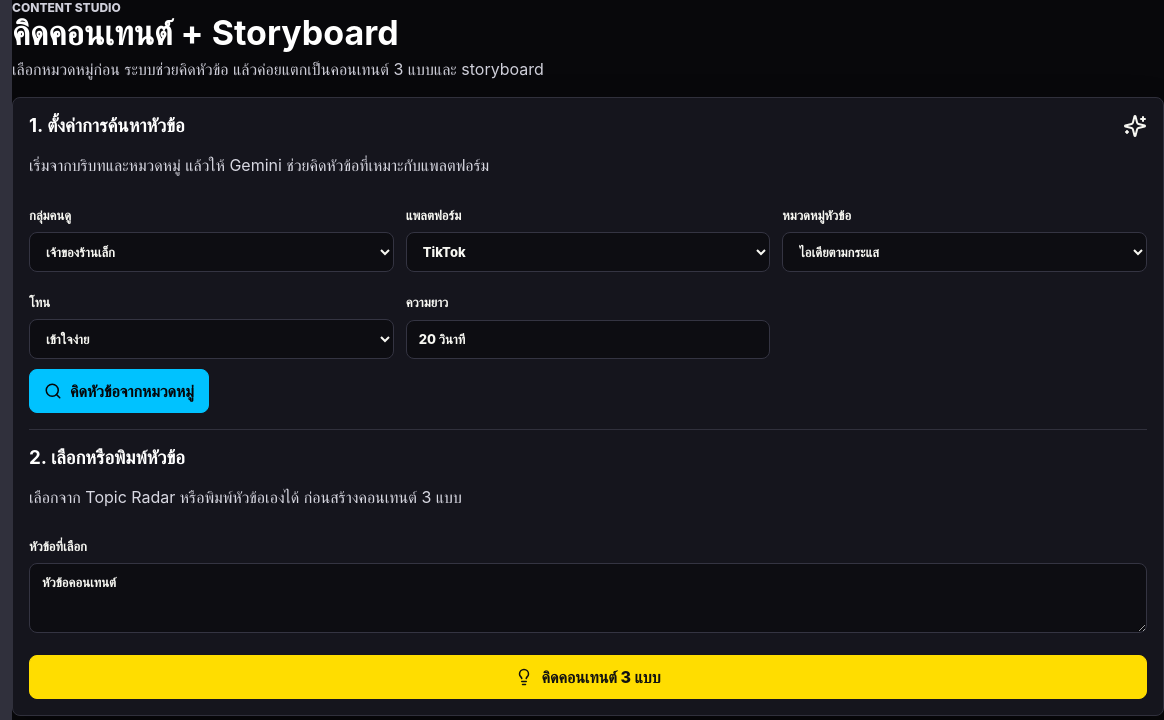
Test: ContentStudio › proposes three content options and creates a storyboard from the selected option
Replace the text in the text box labelled "หัวข้อที่เลือก" with "ร้านเล็กใช้ AI ตอบลูกค้าเร็วขึ้น" at (588, 598), box 29,563 -> 1147,633
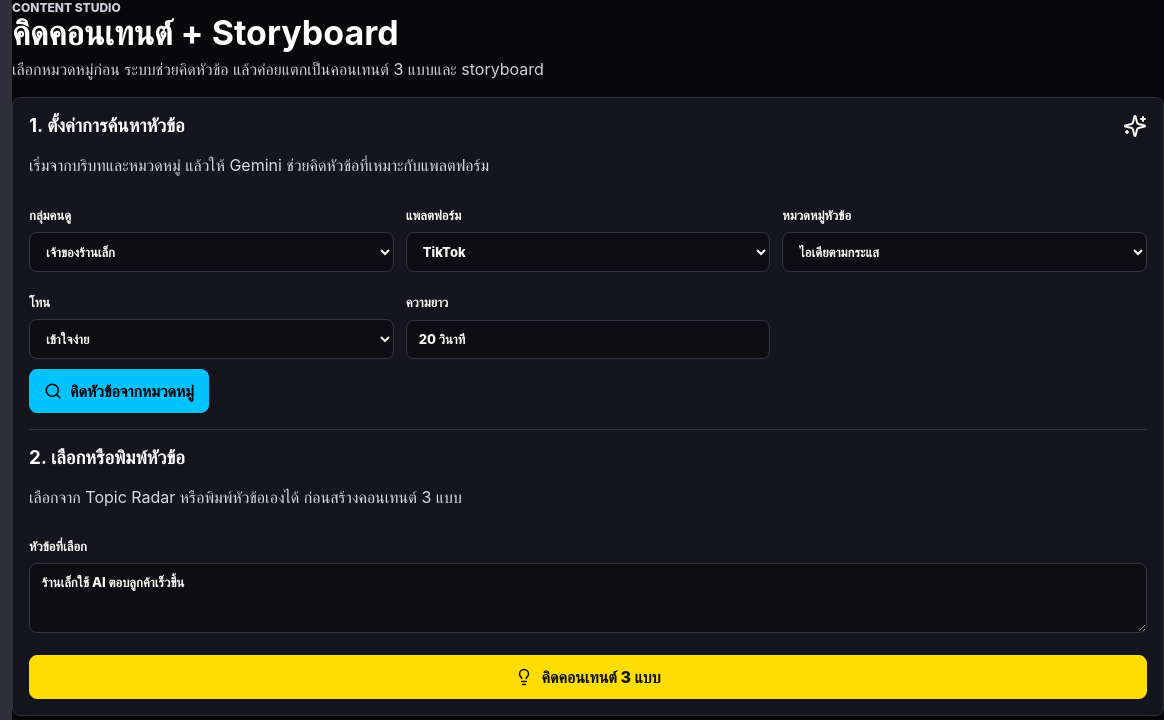
expect the dropdown labelled "แพลตฟอร์ม" is shown: met, box 406,232 -> 770,272
expect the dropdown labelled "โทน" is shown: met, box 29,320 -> 394,360
Select "แม่ค้าออนไลน์" in the dropdown labelled "กลุ่มคนดู" at (211, 252), box 29,232 -> 394,272
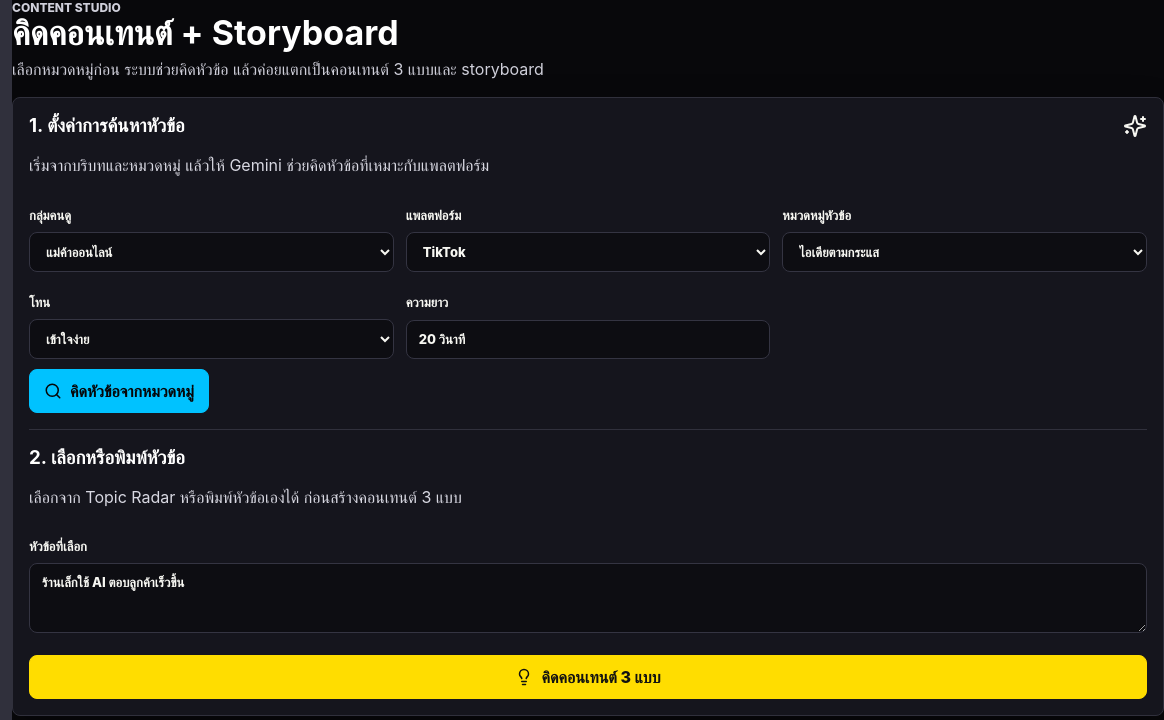
Select "Facebook Reels" in the dropdown labelled "แพลตฟอร์ม" at (588, 252), box 406,232 -> 770,272
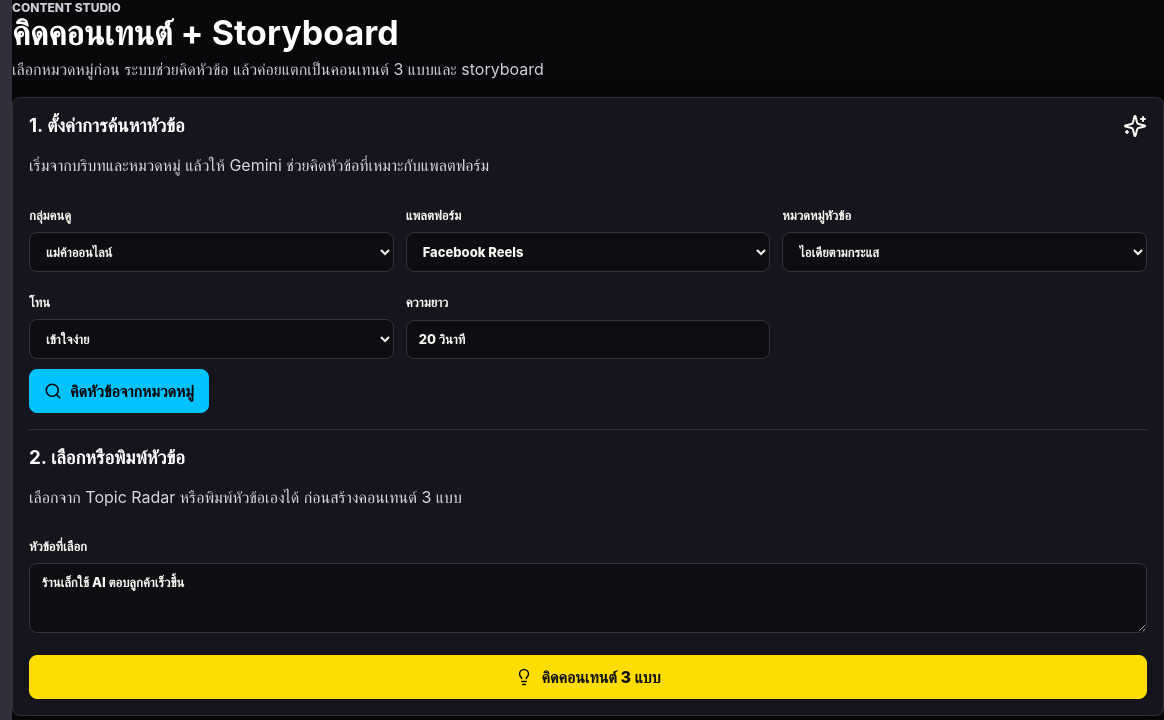
Select "สอนแบบจับมือทำ" in the dropdown labelled "โทน" at (211, 340), box 29,320 -> 394,360
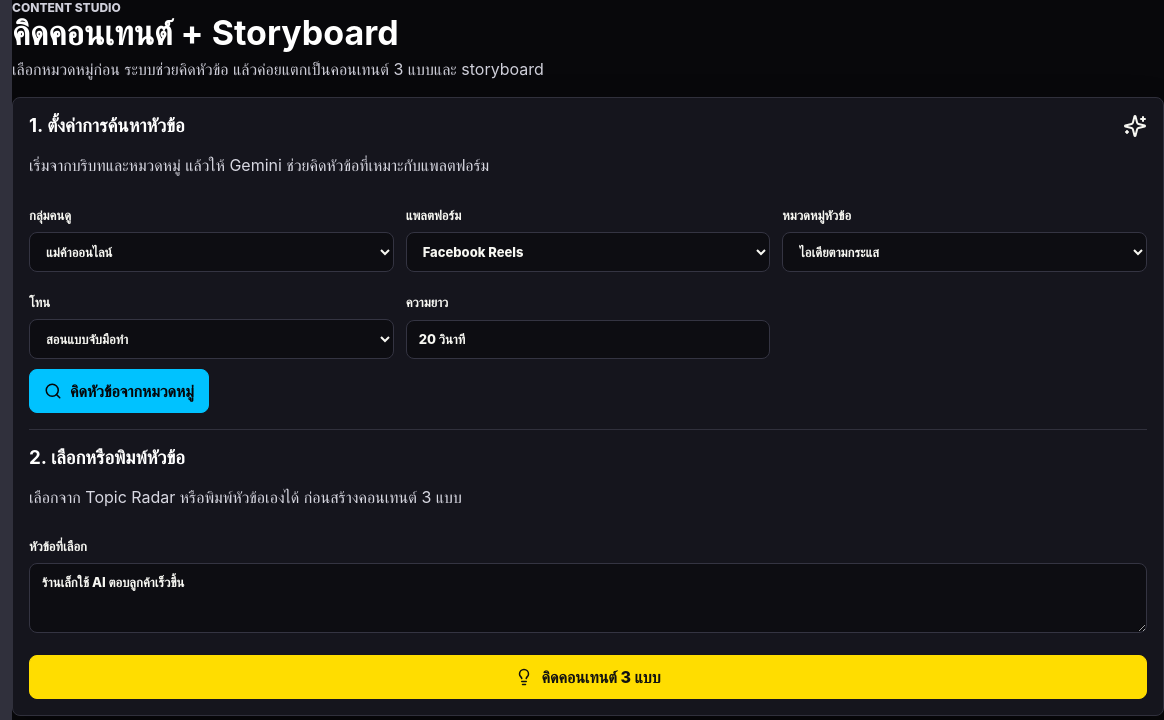
Click the button "คิดคอนเทนต์ 3 แบบ" at (588, 677), box 29,655 -> 1147,699
(page scrolled)
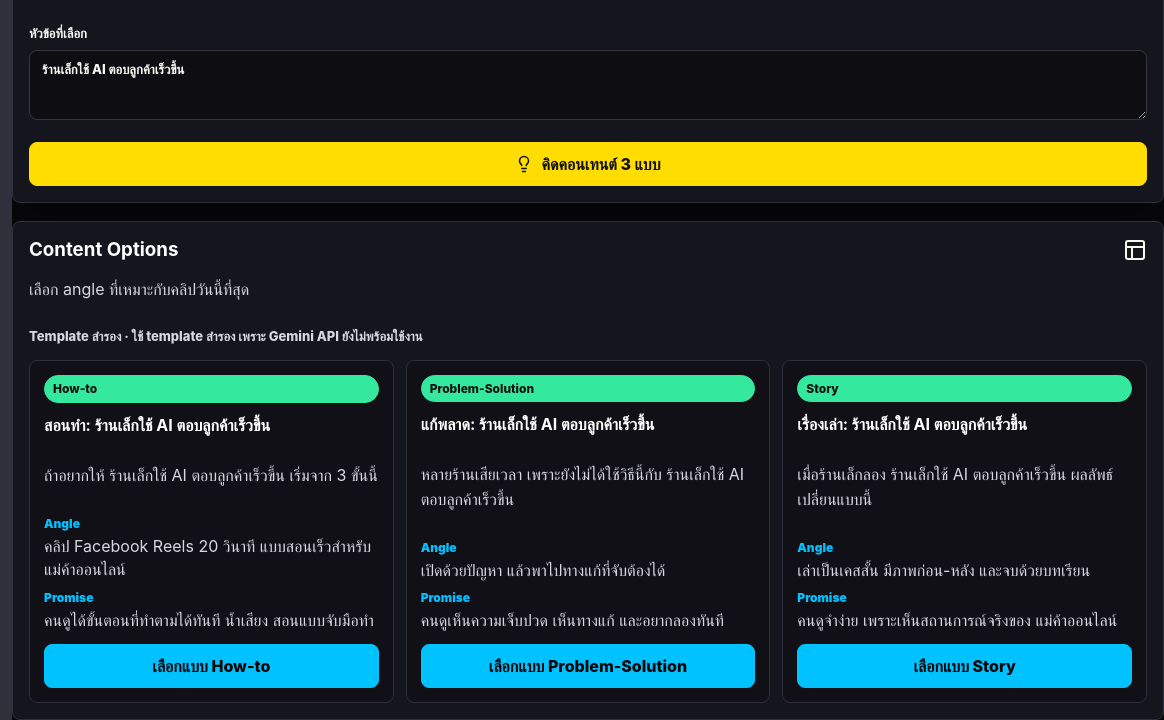
expect the heading "สอนทำ: ร้านเล็กใช้ AI ตอบลูกค้าเร็วขึ้น" is shown: met, box 44,414 -> 270,434
expect the heading "แก้พลาด: ร้านเล็กใช้ AI ตอบลูกค้าเร็วขึ้น" is shown: met, box 421,414 -> 654,434
expect the heading "เรื่องเล่า: ร้านเล็กใช้ AI ตอบลูกค้าเร็วขึ้น" is shown: met, box 797,414 -> 1027,434
Click the button "เลือกแบบ How-to" at (211, 666), box 44,644 -> 379,688
(page scrolled)
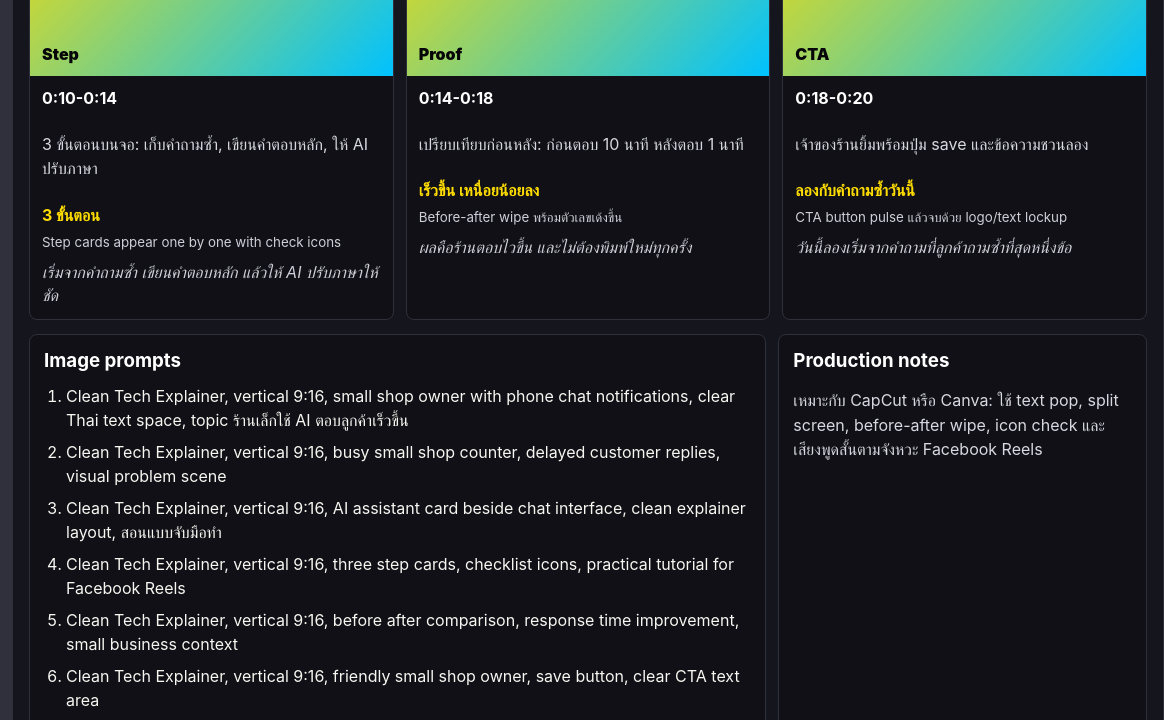
expect the heading "Image prompts" is shown: met, box 44,349 -> 181,372
